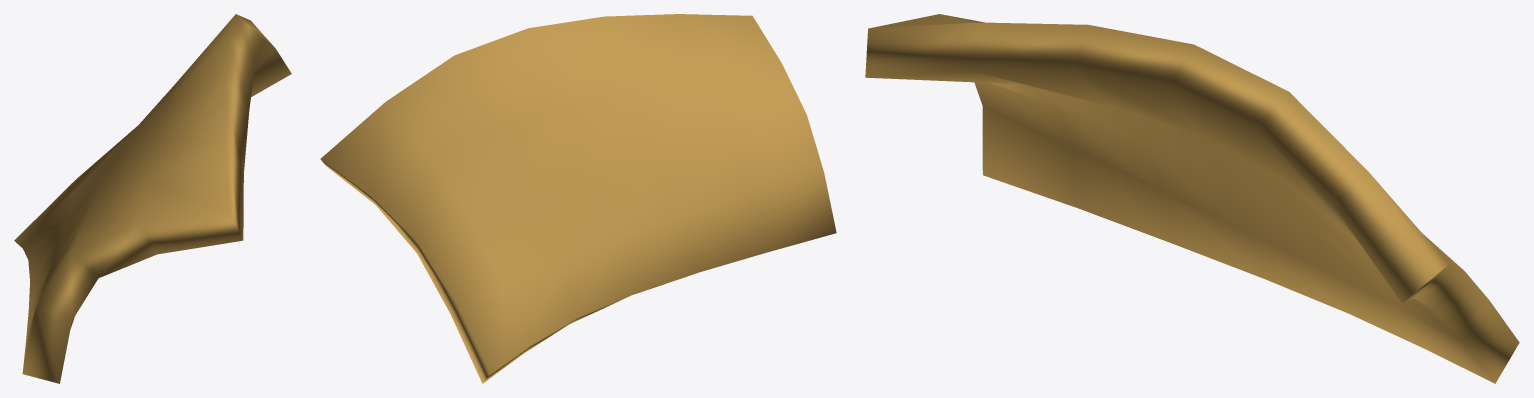
3 renders of one model, left to right at view 1: azimuth 30°, elevation 25°; view 2: azimuth 150°, elevation 25°; view 3: azimuth 270°, elevation 25°, orthographic. The views are drawn at different scales.
Parts seen in each view (by area): view 1: 右侧胸锁后韧带; view 2: 右侧胸锁后韧带; view 3: 右侧胸锁后韧带.
Part boxes in pixels (<box>): 右侧胸锁后韧带: <box>14,14,291,383</box>; 右侧胸锁后韧带: <box>320,14,836,383</box>; 右侧胸锁后韧带: <box>865,14,1519,383</box>.
Bounding box in the file's own units: 0.0279 × 0.0189 × 0.0294.
